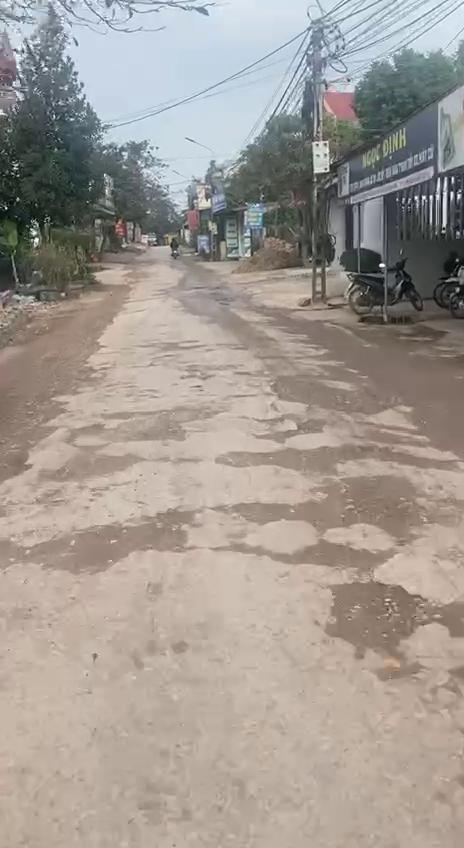pothole: (210, 472, 464, 585), (314, 578, 464, 683), (42, 402, 222, 488), (0, 506, 204, 579), (205, 434, 464, 478), (268, 368, 400, 413), (0, 394, 67, 482), (245, 406, 329, 448)
